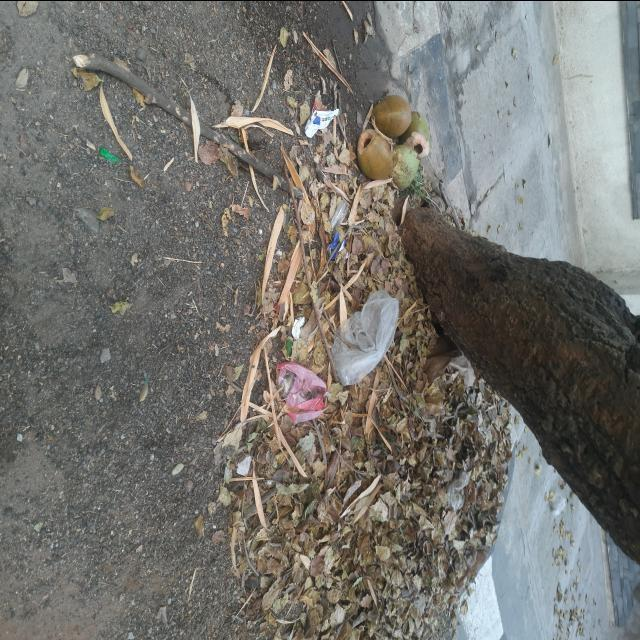Garbage: (215, 93, 515, 640)
Plastic_Bag: (331, 288, 399, 385), (278, 362, 326, 423), (448, 470, 470, 510), (330, 197, 349, 227), (311, 390, 312, 392)
Plastic_wraper: (328, 232, 345, 260)
